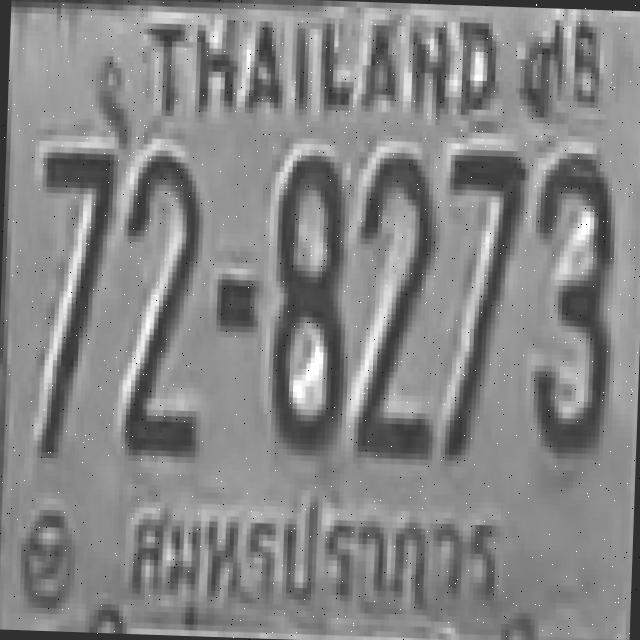2: (114, 148, 204, 428), (118, 154, 203, 440), (351, 151, 436, 436), (350, 151, 434, 413), (118, 149, 202, 405)
3: (528, 148, 613, 450)
7: (436, 143, 526, 440), (30, 146, 116, 448), (440, 142, 526, 352), (440, 143, 526, 330)
8: (266, 152, 346, 448)
SamutPrakan: (106, 474, 524, 627)
